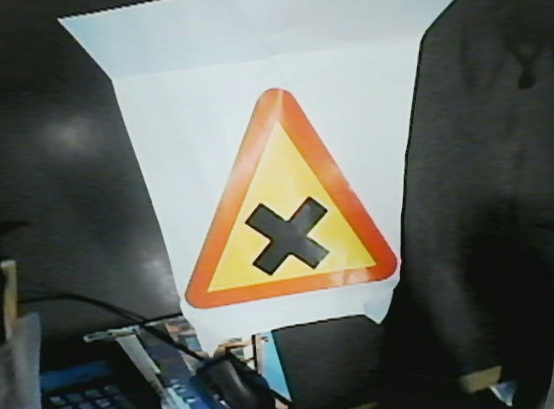junction: (164, 88, 422, 320)
